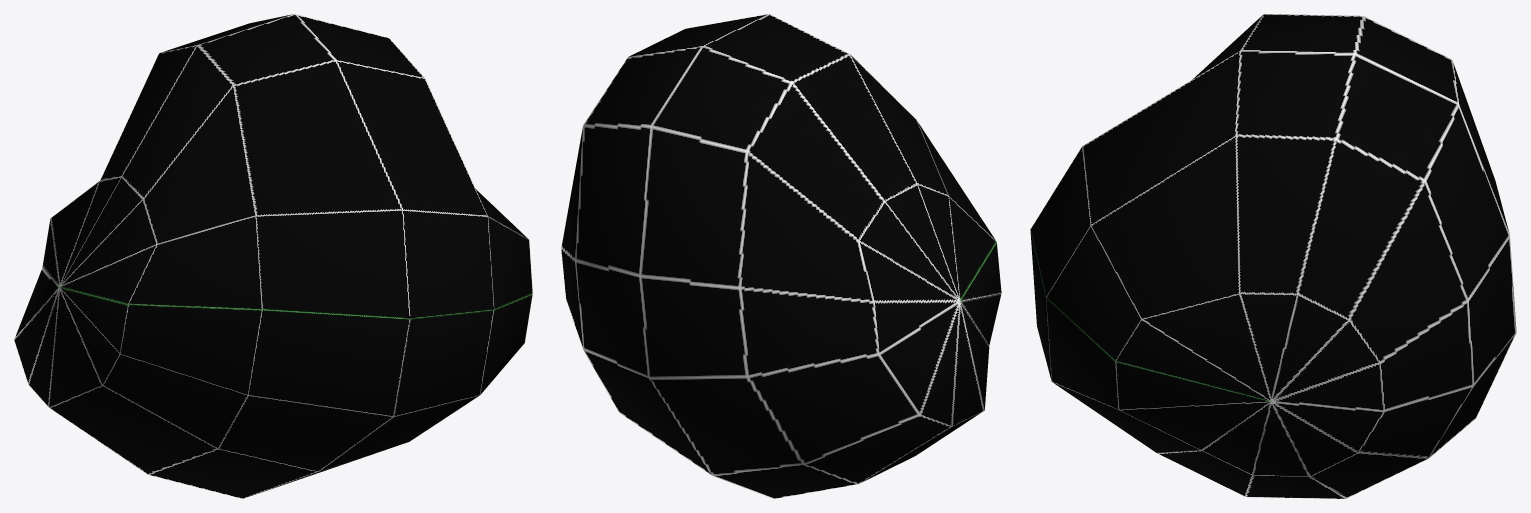
The model's file is Volcanic Rock.FBX.
3 views of the same model, side by side, from view 1: azimuth 30°, elevation 25°; view 2: azimuth 150°, elevation 25°; view 3: azimuth 270°, elevation 25° (orthographic). The views are drawn at different scales.
Visible parts, largest first — view 1: Rock; view 2: Rock; view 3: Rock.
Boxes of the visible parts, box(x1,y1,x2,y2) form: Rock: box(14, 14, 532, 498); Rock: box(561, 14, 1001, 498); Rock: box(1030, 14, 1516, 498).
Bounding box in the file's own units: 24.22 × 24.62 × 23.61.
